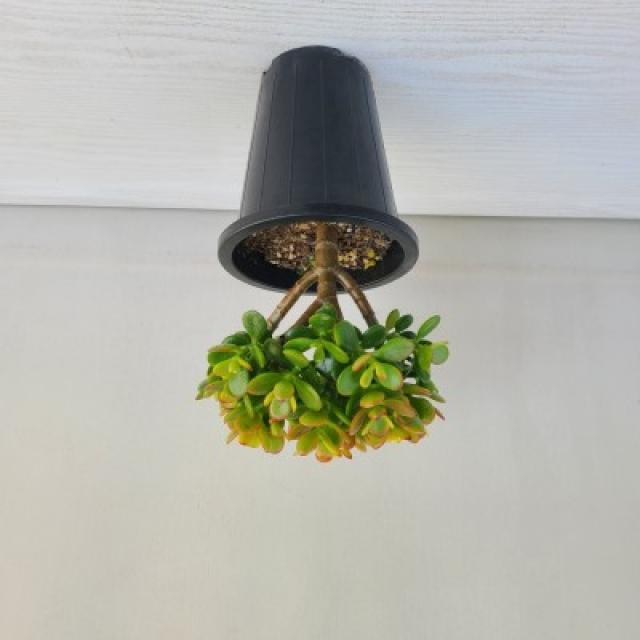Crassula: (301, 304, 449, 395), (314, 389, 438, 461), (199, 368, 296, 454), (198, 312, 270, 405), (285, 374, 340, 461)
